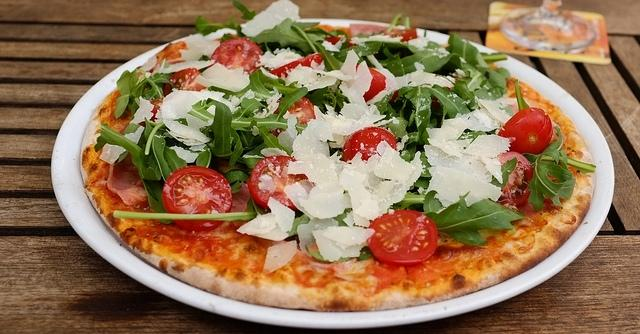tomato: (162, 165, 232, 232), (367, 210, 438, 266), (246, 156, 308, 212), (498, 108, 554, 154), (496, 152, 534, 210), (342, 126, 397, 162), (268, 97, 316, 138), (211, 38, 262, 74), (269, 53, 323, 79), (164, 68, 206, 96), (363, 67, 386, 103), (384, 26, 417, 42), (349, 24, 388, 36), (326, 36, 341, 45)
